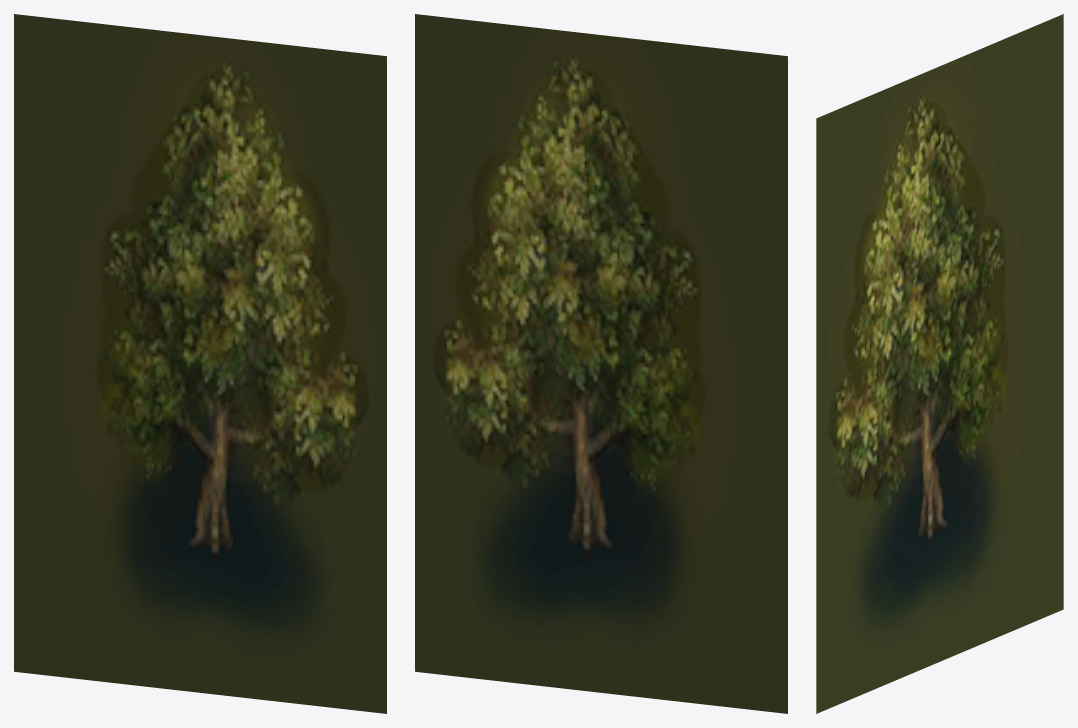
Rendered from T_CommonTree_04.fbx.
The picture shows the model from 3 angles, left to right: view 1: azimuth 30°, elevation 25°; view 2: azimuth 210°, elevation 25°; view 3: azimuth 270°, elevation 25°; orthographic projection. The views are drawn at different scales.
Parts seen in each view (by area): view 1: T_CommonTree_04; view 2: T_CommonTree_04; view 3: T_CommonTree_04.
Boxes of the visible parts, x1=… form: T_CommonTree_04: x1=14, y1=14, x2=386, y2=713; T_CommonTree_04: x1=415, y1=14, x2=787, y2=713; T_CommonTree_04: x1=816, y1=14, x2=1063, y2=713.
Size of the model in its own units: 2.57 by 6.82 by 2.57.
